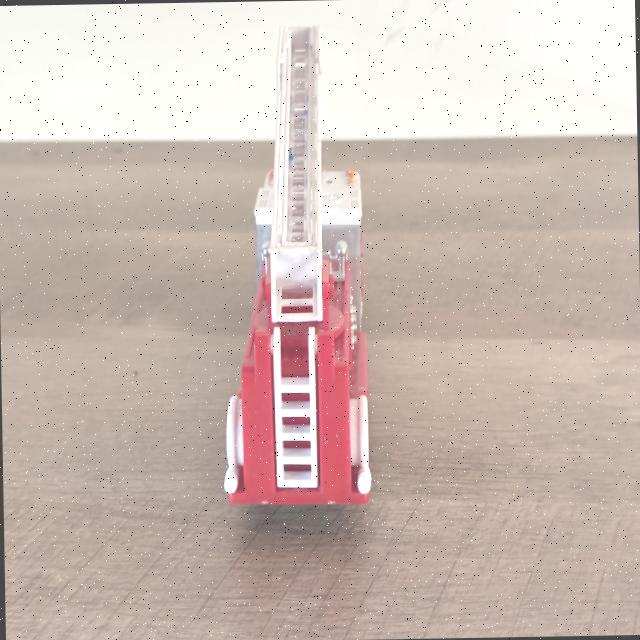fire-truck: (224, 27, 371, 504)
